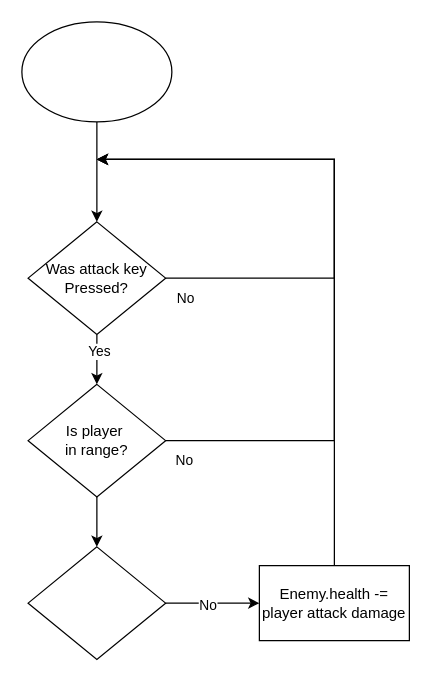
This 431x681 diagram has some shape labels left out. Each missing label, with the box of its shape:
Does player have weapon?: (27, 546, 166, 659)
Start: (21, 21, 172, 122)
